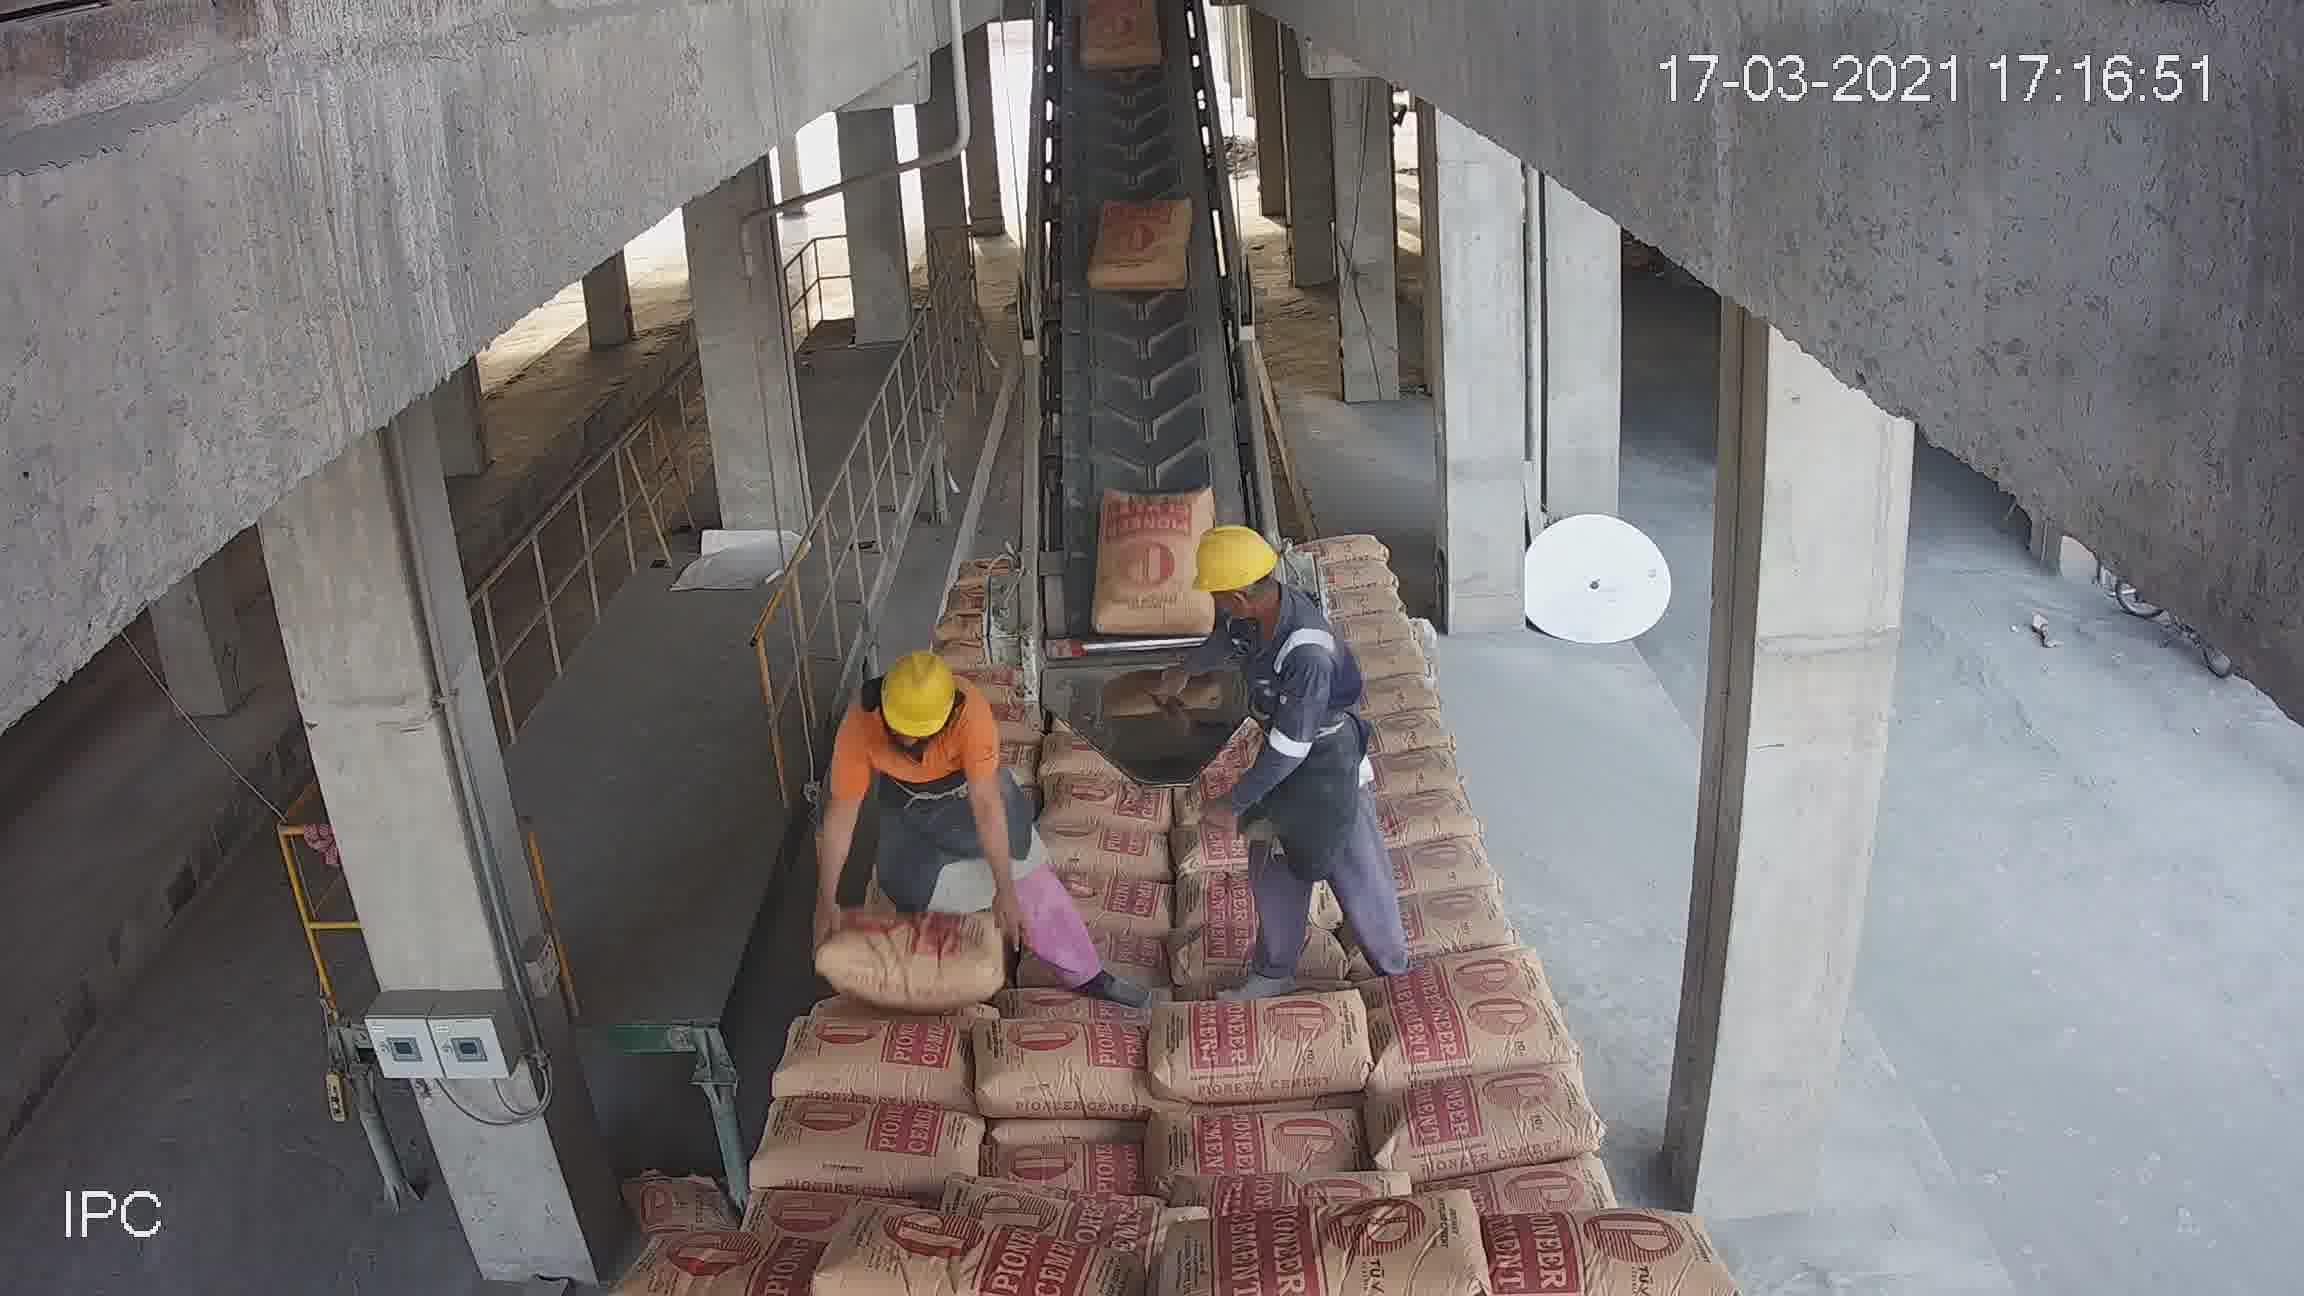bag: (1086, 481, 1220, 636), (1086, 199, 1193, 293)
bag_h: (1199, 1188, 1510, 1296), (1147, 991, 1383, 1111), (790, 1215, 1128, 1294), (1446, 1203, 1714, 1296), (748, 1100, 995, 1196), (972, 1008, 1157, 1130), (1353, 999, 1581, 1097), (1381, 1082, 1582, 1190), (815, 904, 1014, 1005), (766, 1021, 983, 1108), (1158, 1111, 1362, 1196), (635, 1228, 843, 1294), (1388, 889, 1525, 967), (1370, 956, 1540, 1016), (992, 1144, 1158, 1201), (1041, 771, 1174, 839), (1059, 873, 1184, 938), (1036, 820, 1173, 878), (1381, 832, 1497, 900), (1374, 783, 1476, 850), (1355, 745, 1472, 798), (1364, 706, 1445, 760), (1361, 669, 1446, 718), (1347, 638, 1427, 684), (1320, 554, 1404, 592), (1296, 529, 1375, 557)
belt: (1013, 6, 1264, 674)
